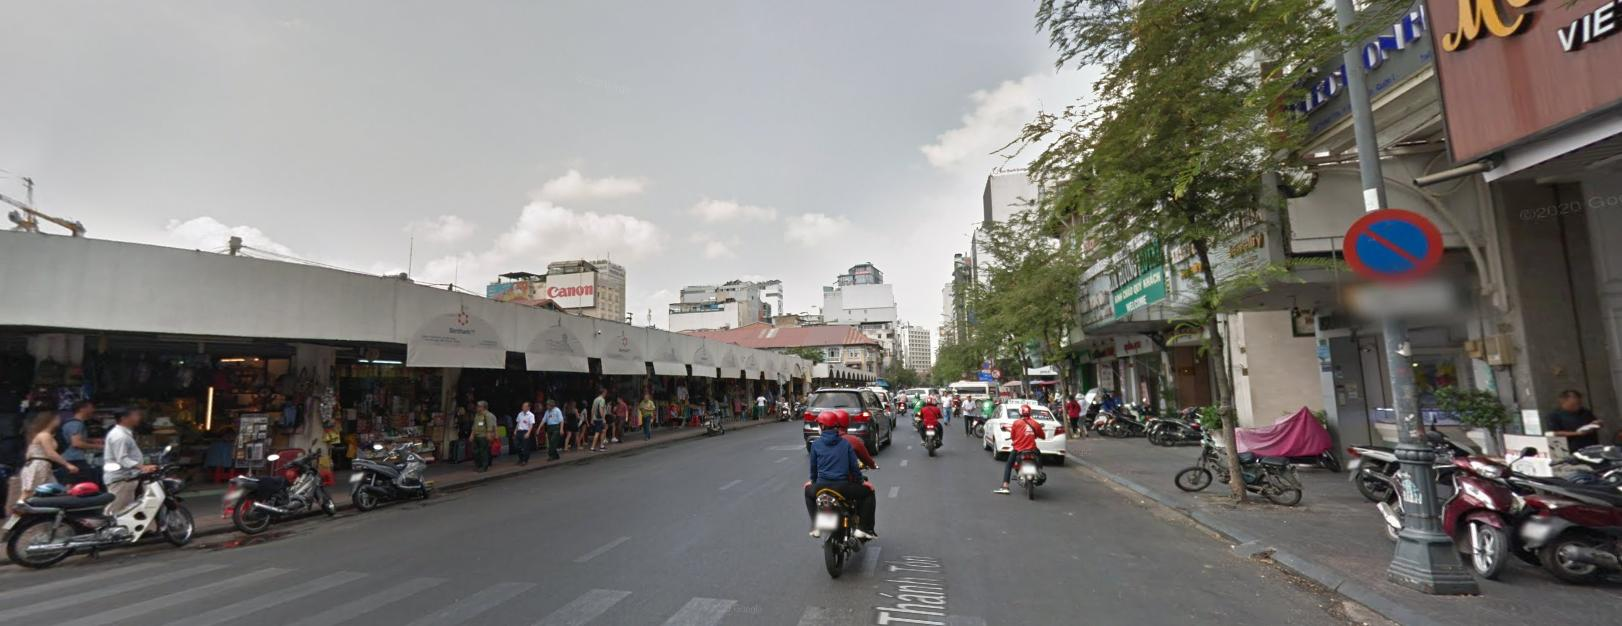Cam dung va do: (1322, 199, 1451, 278), (981, 359, 989, 367)
Cam re: (989, 367, 1002, 377)
